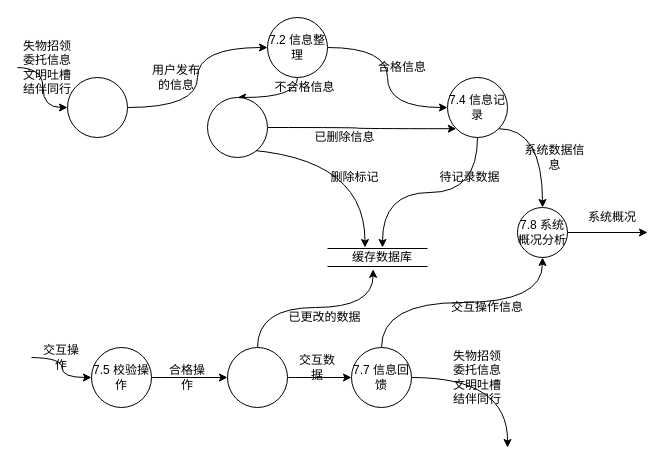
This 664x464 diagram has some shape labels left out. Each missing label, with the box of its shape:
7.1 信息采集: (66, 76, 128, 138)
7.3 信息删除: (206, 96, 268, 158)
7.6 操作记录: (226, 346, 288, 408)
